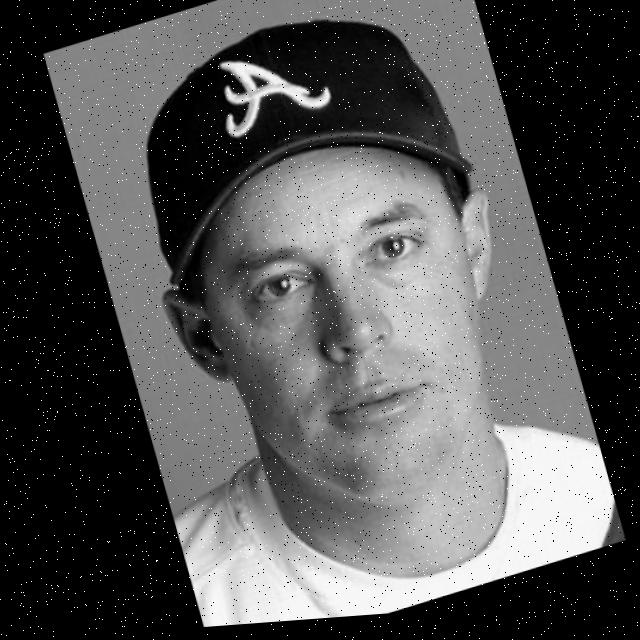face: (141, 98, 556, 565)
